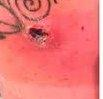Spider: (20, 16, 57, 54)
